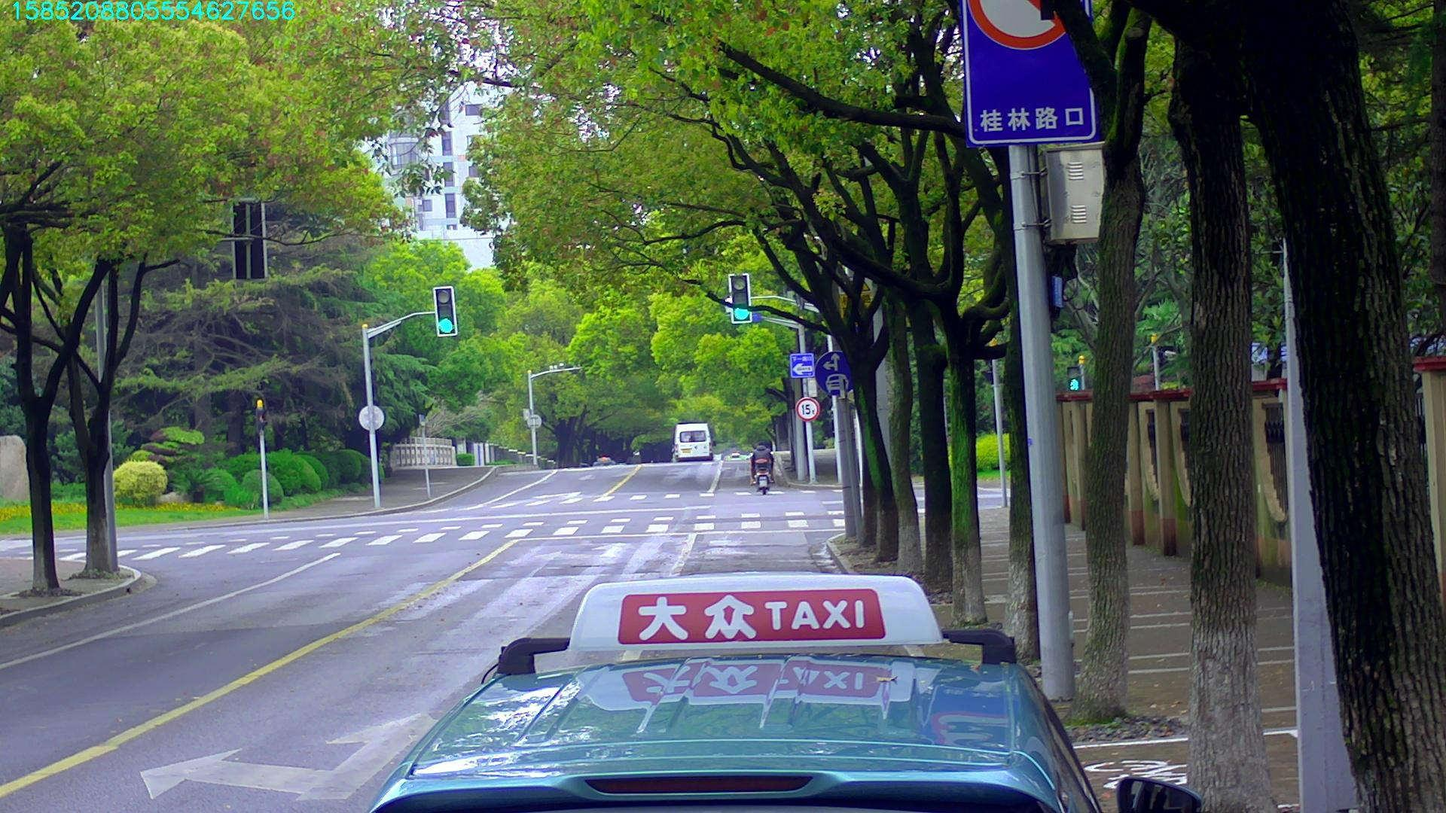green: (729, 274, 749, 321), (435, 287, 454, 333)
